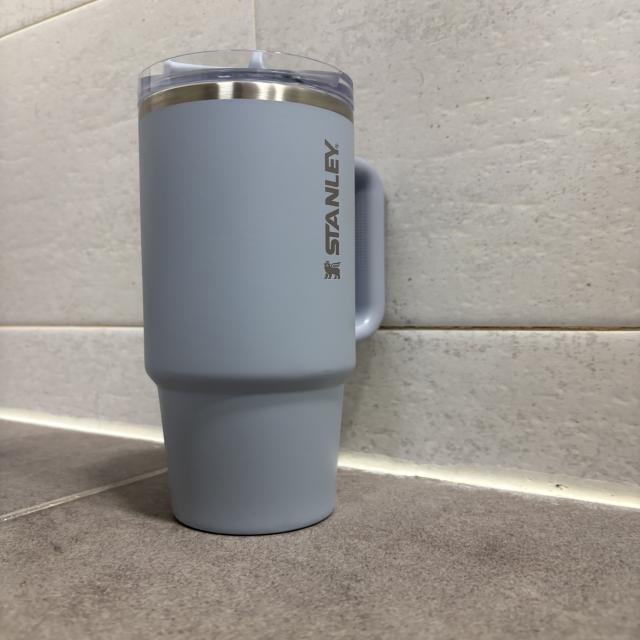waterbottle: (139, 48, 386, 536)
